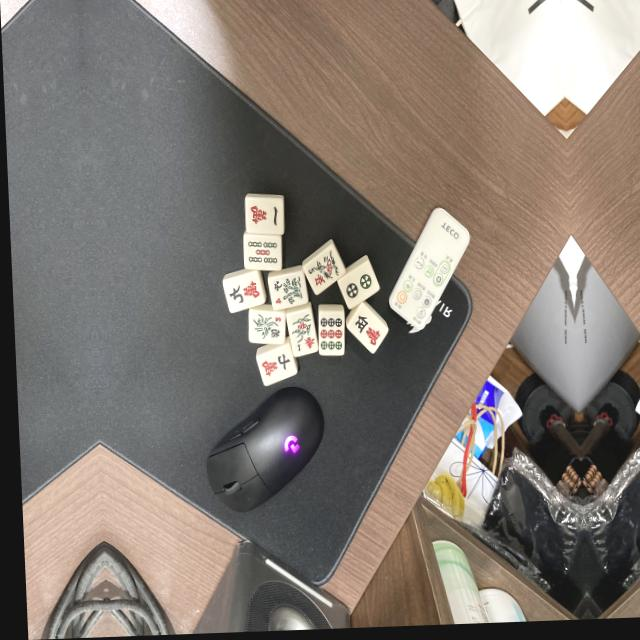f2: (248, 311, 284, 347)
f4: (269, 274, 308, 311)
ff1: (287, 309, 318, 356)
ff2: (303, 244, 346, 296)
m1: (244, 196, 283, 236)
m5: (347, 306, 390, 355)
m7: (255, 347, 296, 386)
m9: (224, 272, 265, 312)
s5: (244, 237, 281, 273)
t2: (337, 259, 381, 311)
t9: (318, 311, 346, 357)
